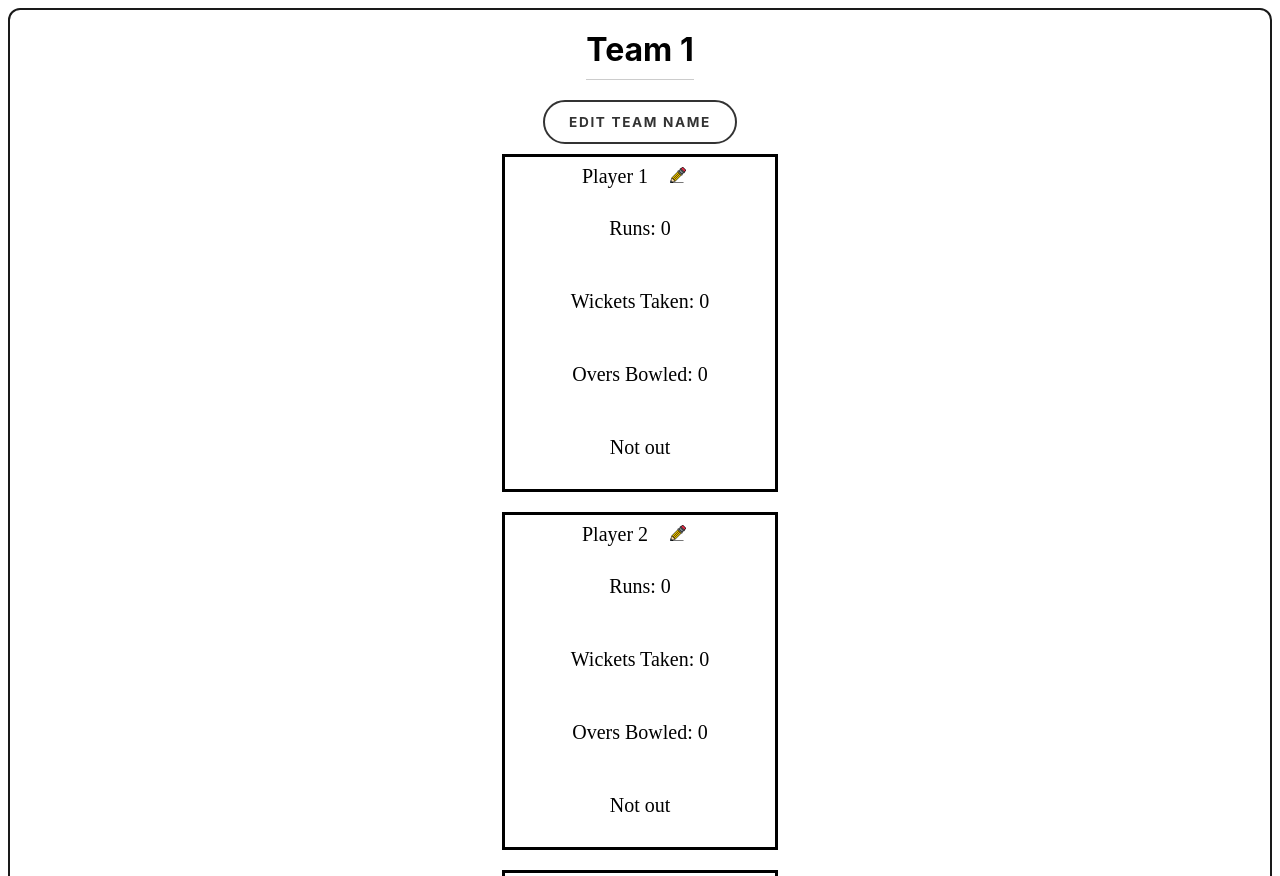
Test: Team Component › should update the player name, upon clicking the save button
Click the button "Edit Team Name": (640, 122) [543, 100, 737, 144]
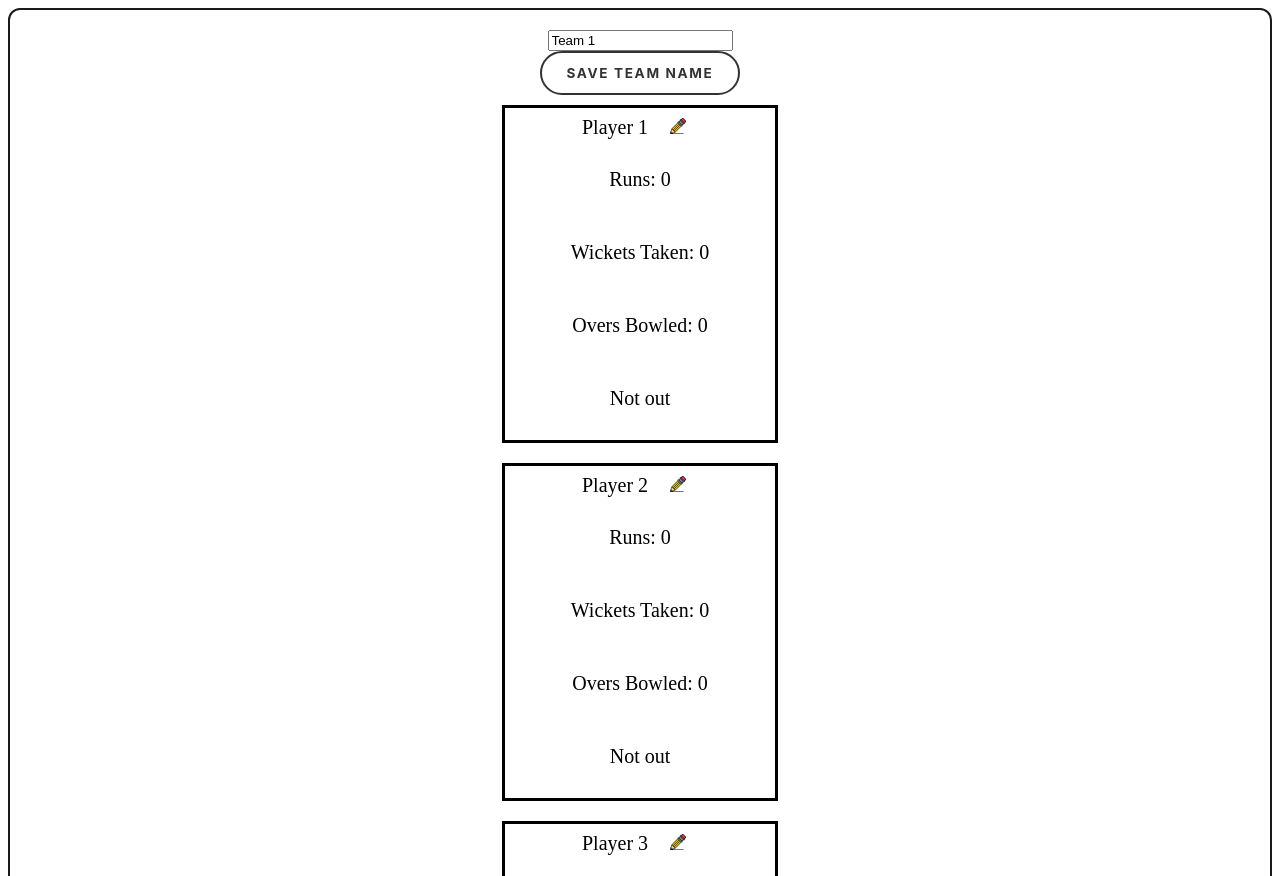
Replace the text in the field named "Edit team name" with "Team La La La": (640, 40) [548, 30, 732, 51]
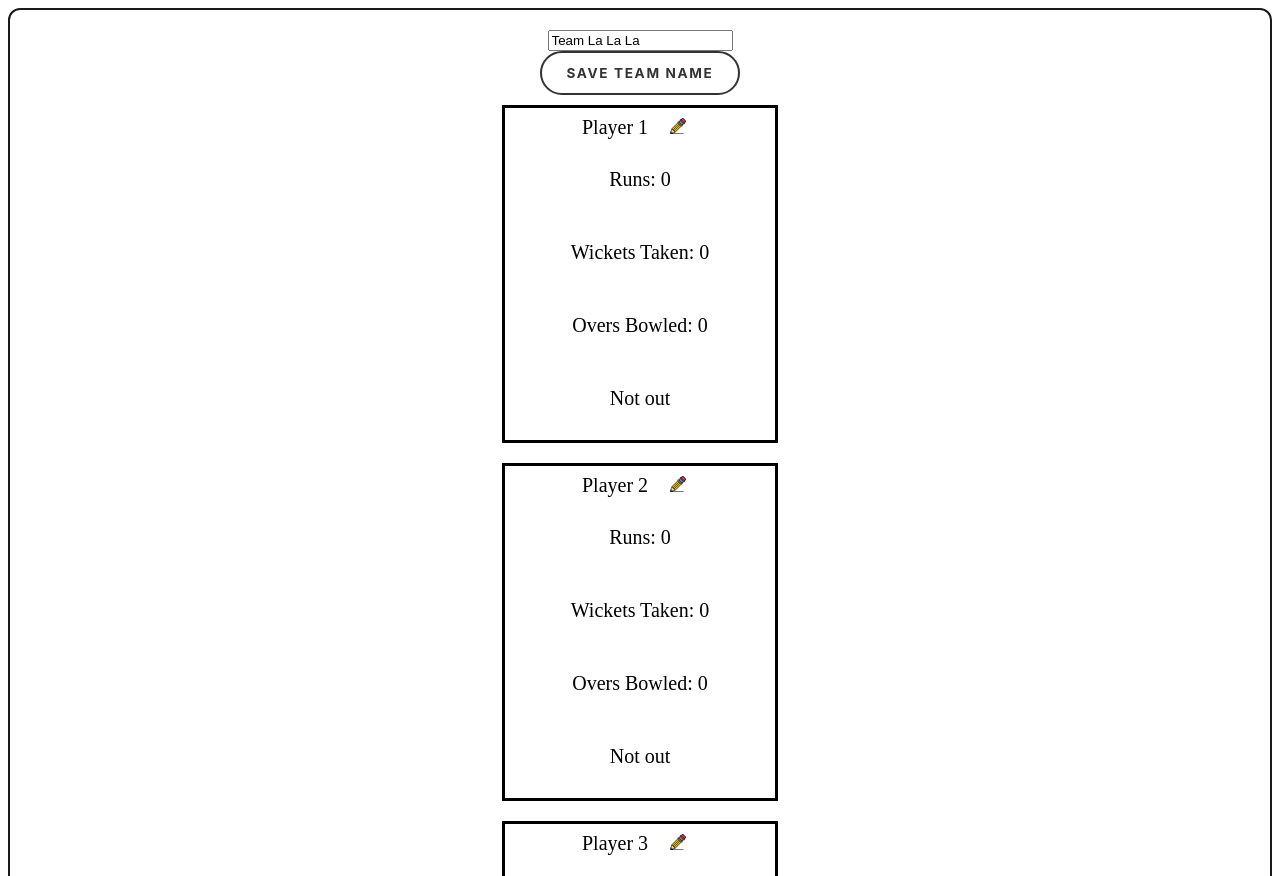
Click the button "Save Team Name": (640, 73) [540, 51, 740, 95]
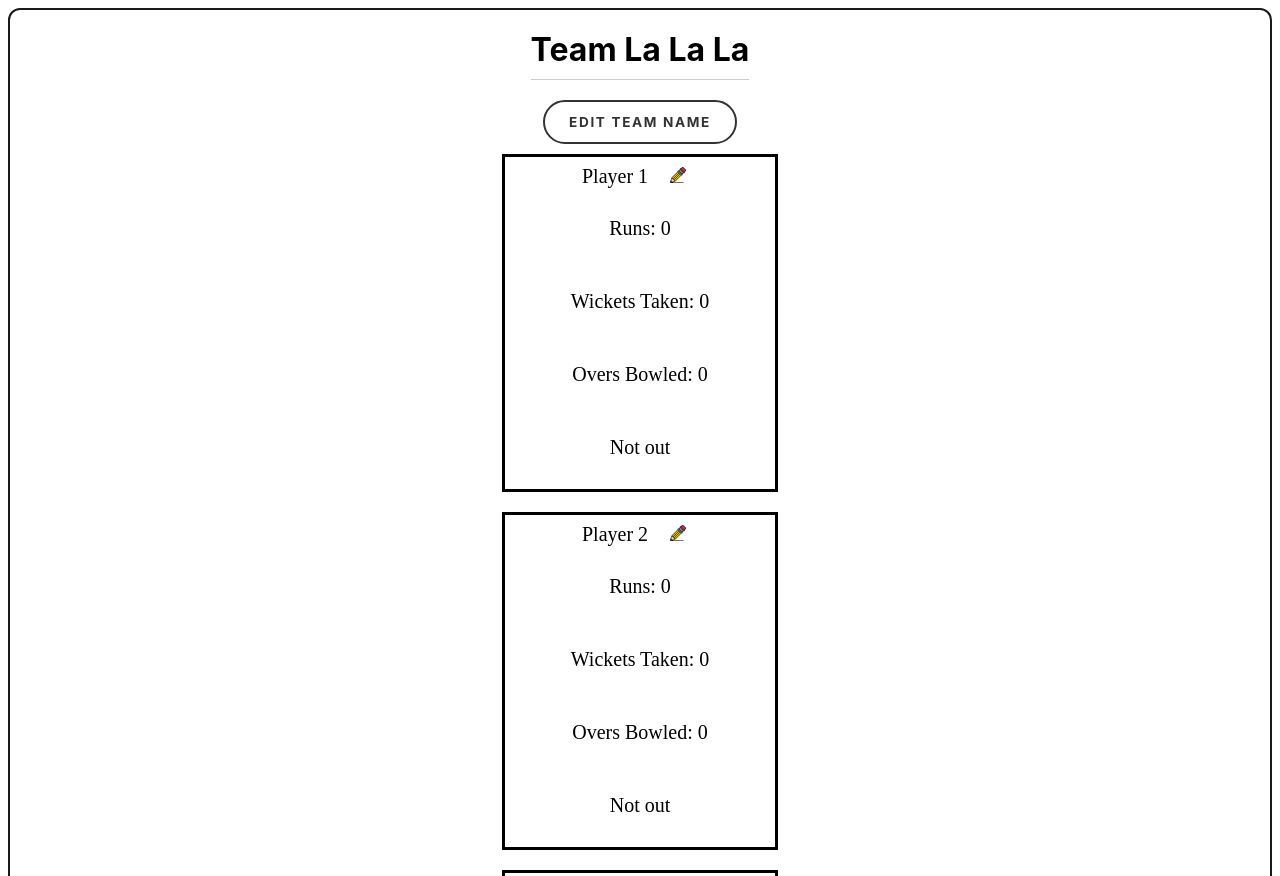
Check: the field is gone
Check: the heading "Team La La La" is shown, box [531, 30, 749, 80]
